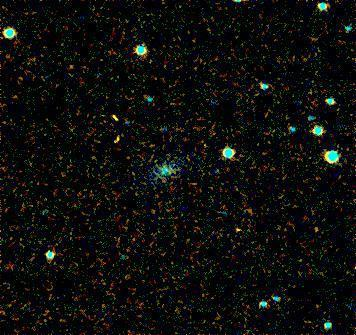star: (224, 212, 254, 242)
